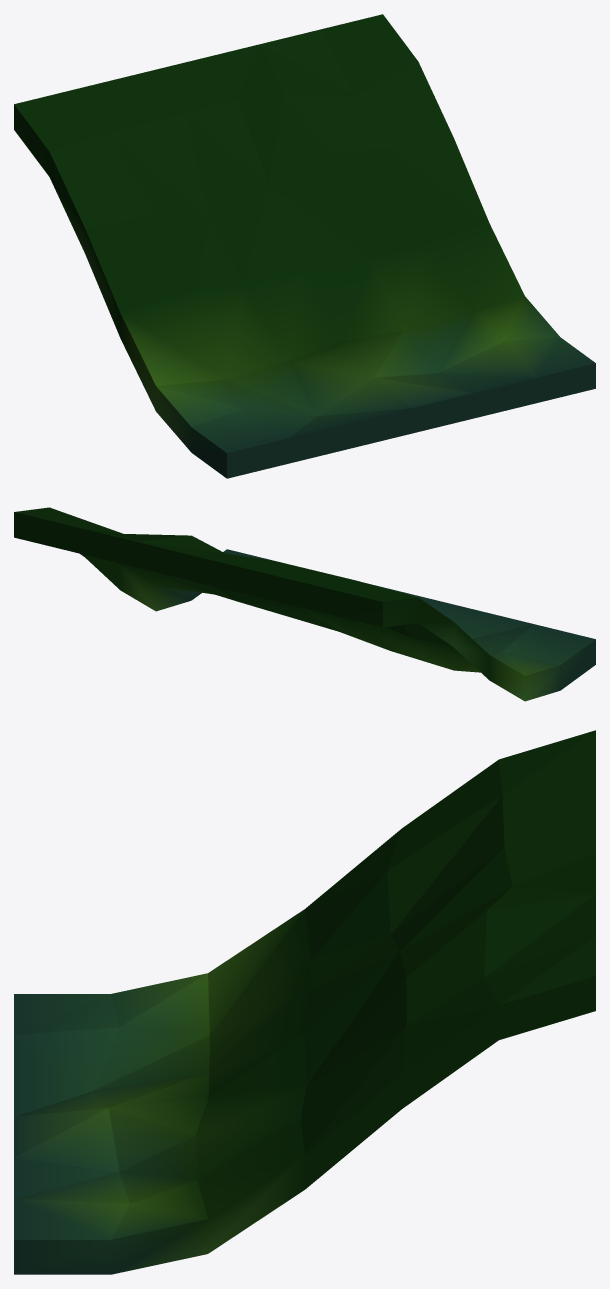
File: Shore0.fbx
The picture shows the model from 3 angles, top to bottom: view 1: azimuth 30°, elevation 25°; view 2: azimuth 150°, elevation 25°; view 3: azimuth 270°, elevation 25°; orthographic projection. The views are drawn at different scales.
Parts seen in each view (by area): view 1: Shore_Block.004; view 2: Shore_Block.004; view 3: Shore_Block.004.
Boxes of the visible parts, <box> form: Shore_Block.004: <box>14,14,595,478</box>; Shore_Block.004: <box>14,507,595,701</box>; Shore_Block.004: <box>14,730,595,1274</box>.
Bounding box in the file's own units: 200 × 113 × 200.
